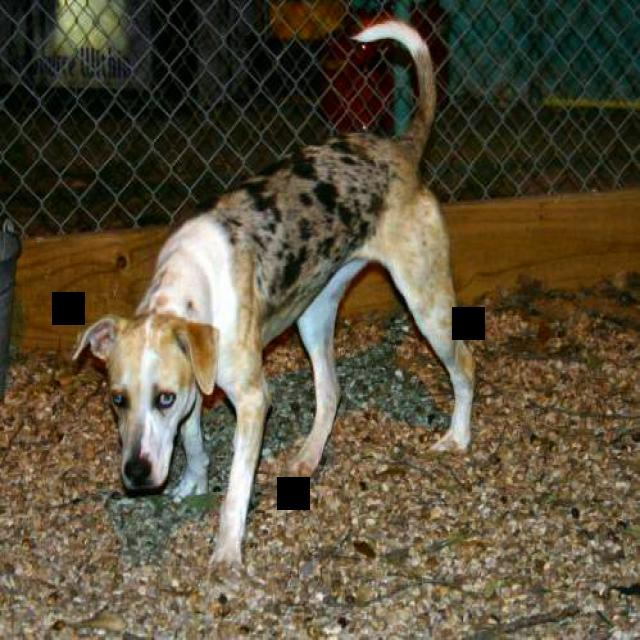adult_dog: (71, 15, 480, 571)
